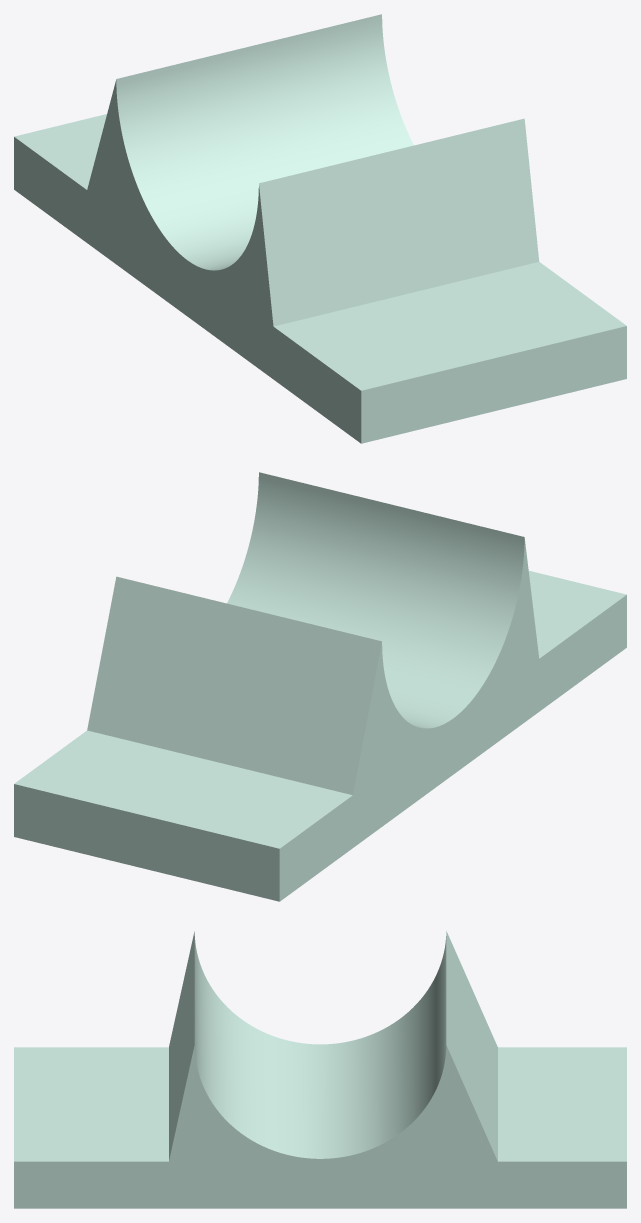
The picture shows the model from 3 angles, top to bottom: view 1: azimuth 30°, elevation 25°; view 2: azimuth 150°, elevation 25°; view 3: azimuth 270°, elevation 25°; orthographic projection. The views are drawn at different scales.
Visible parts, largest first — view 1: Renderer Node; view 2: Renderer Node; view 3: Renderer Node.
Part boxes in pixels (left/top/right/bottom): Renderer Node: left=14, top=14, right=626, bottom=443; Renderer Node: left=14, top=472, right=626, bottom=901; Renderer Node: left=14, top=931, right=626, bottom=1208.
Size of the model in its own units: 0.2969 by 0.198 by 0.6719.
